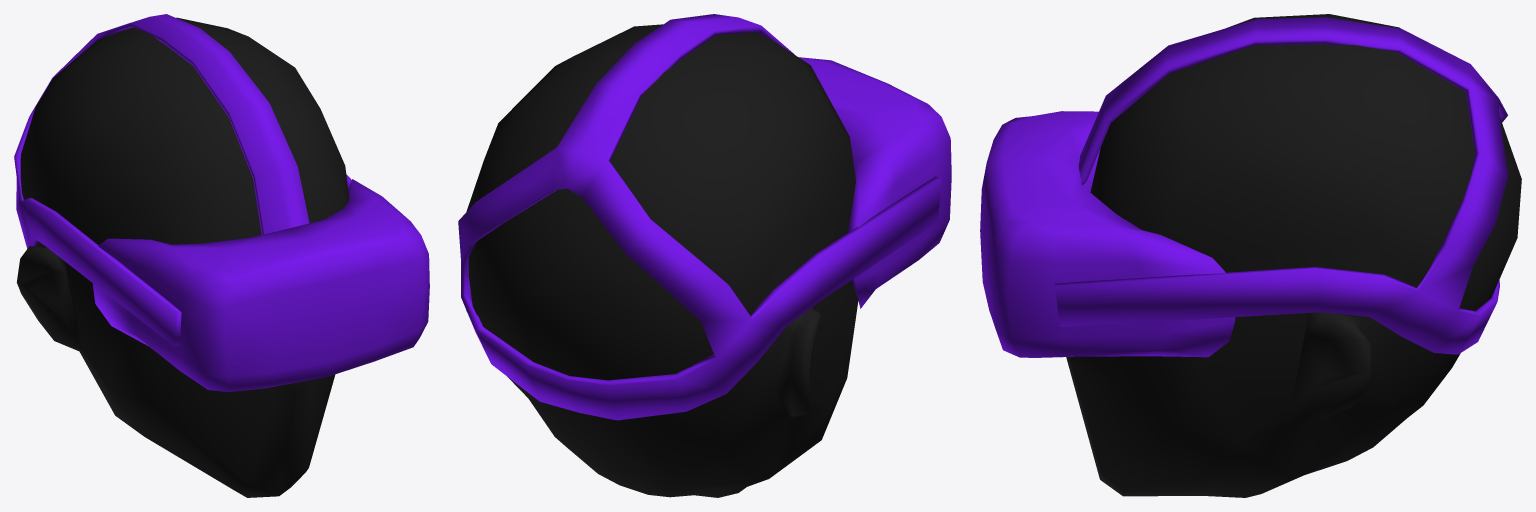
Rendered from hmd.glb.
3 renders of one model, left to right at view 1: azimuth 30°, elevation 25°; view 2: azimuth 150°, elevation 25°; view 3: azimuth 270°, elevation 25°, orthographic. The views are drawn at different scales.
Parts seen in each view (by area): view 1: Head, Headset, Strap; view 2: Head, Strap, Headset; view 3: Head, Strap, Headset.
Boxes of the visible parts, x1,y1,x2,y2 form: Head: (16,17,349,497); Headset: (92,179,429,392); Strap: (14,14,351,346); Head: (466,24,858,497); Strap: (458,14,941,420); Headset: (799,57,951,308); Head: (1066,14,1521,497); Strap: (1054,17,1508,354); Headset: (980,111,1235,357).
Size of the model in its own units: 0.1776 by 0.2316 by 0.247.
